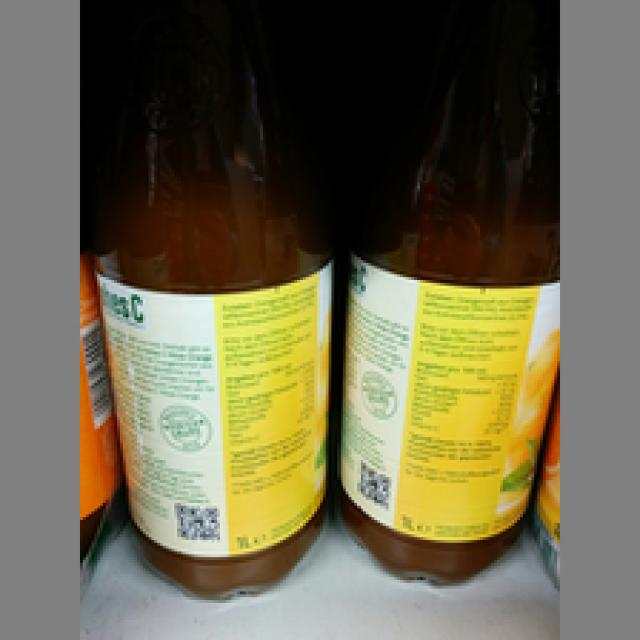groceries: (86, 6, 340, 603), (340, 23, 557, 586)
